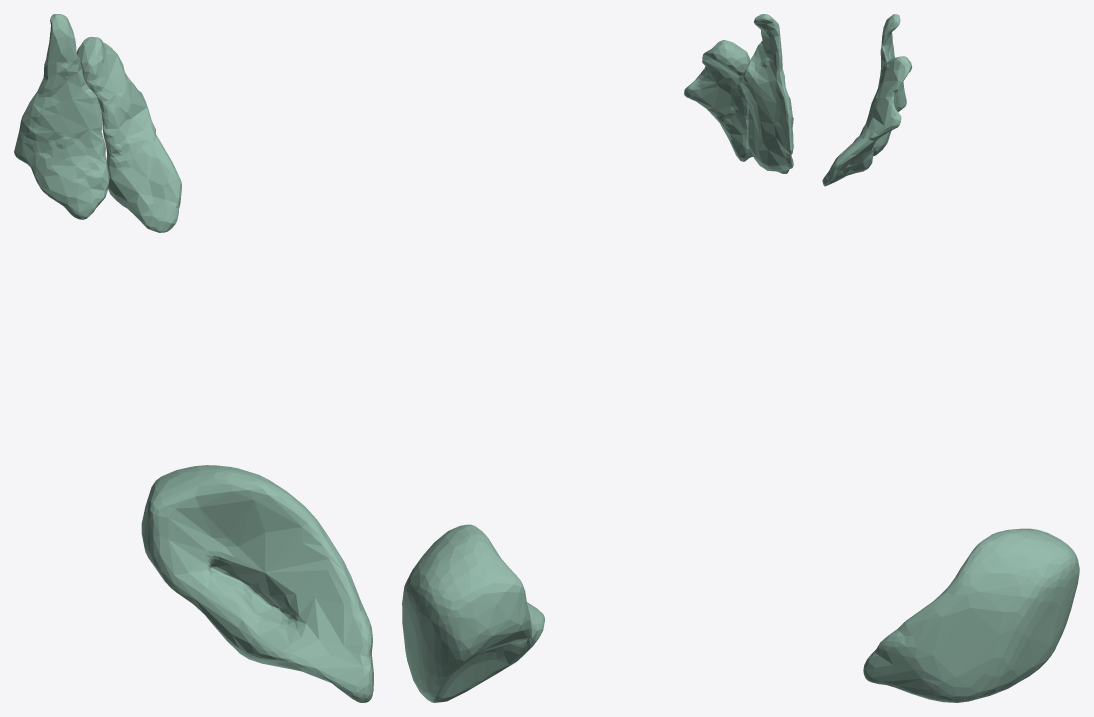
Rendered from lymphatic-00.glb.
3 views of the same model, side by side, from view 1: azimuth 30°, elevation 25°; view 2: azimuth 150°, elevation 25°; view 3: azimuth 270°, elevation 25° (orthographic). The views are drawn at different scales.
Visible parts, largest first — view 1: FJ2561, FJ3151, FJ3150; view 2: FJ2561, FJ3151, FJ3150; view 3: FJ2561, FJ3150, FJ3151.
Part boxes in pixels (x1,y1,x2,y2): FJ2561: [141, 465, 373, 702]; FJ3151: [14, 14, 109, 219]; FJ3150: [76, 36, 181, 232]; FJ2561: [402, 524, 544, 702]; FJ3151: [740, 14, 793, 173]; FJ3150: [684, 40, 753, 161]; FJ2561: [863, 528, 1079, 702]; FJ3150: [822, 56, 912, 186]; FJ3151: [873, 14, 906, 156].
Size of the model in its own units: 0.1386 by 0.2781 by 0.1131.
